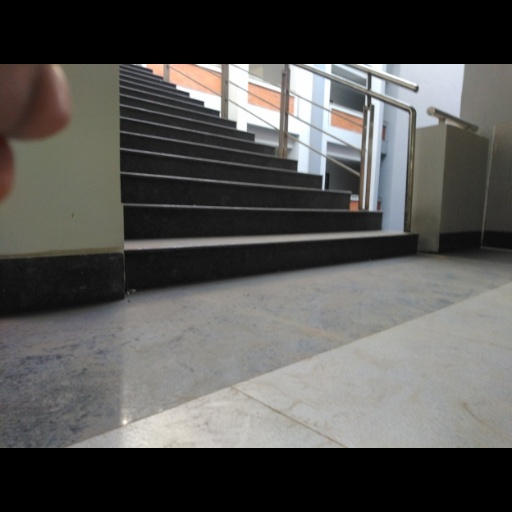Stairs: (121, 66, 416, 288)
